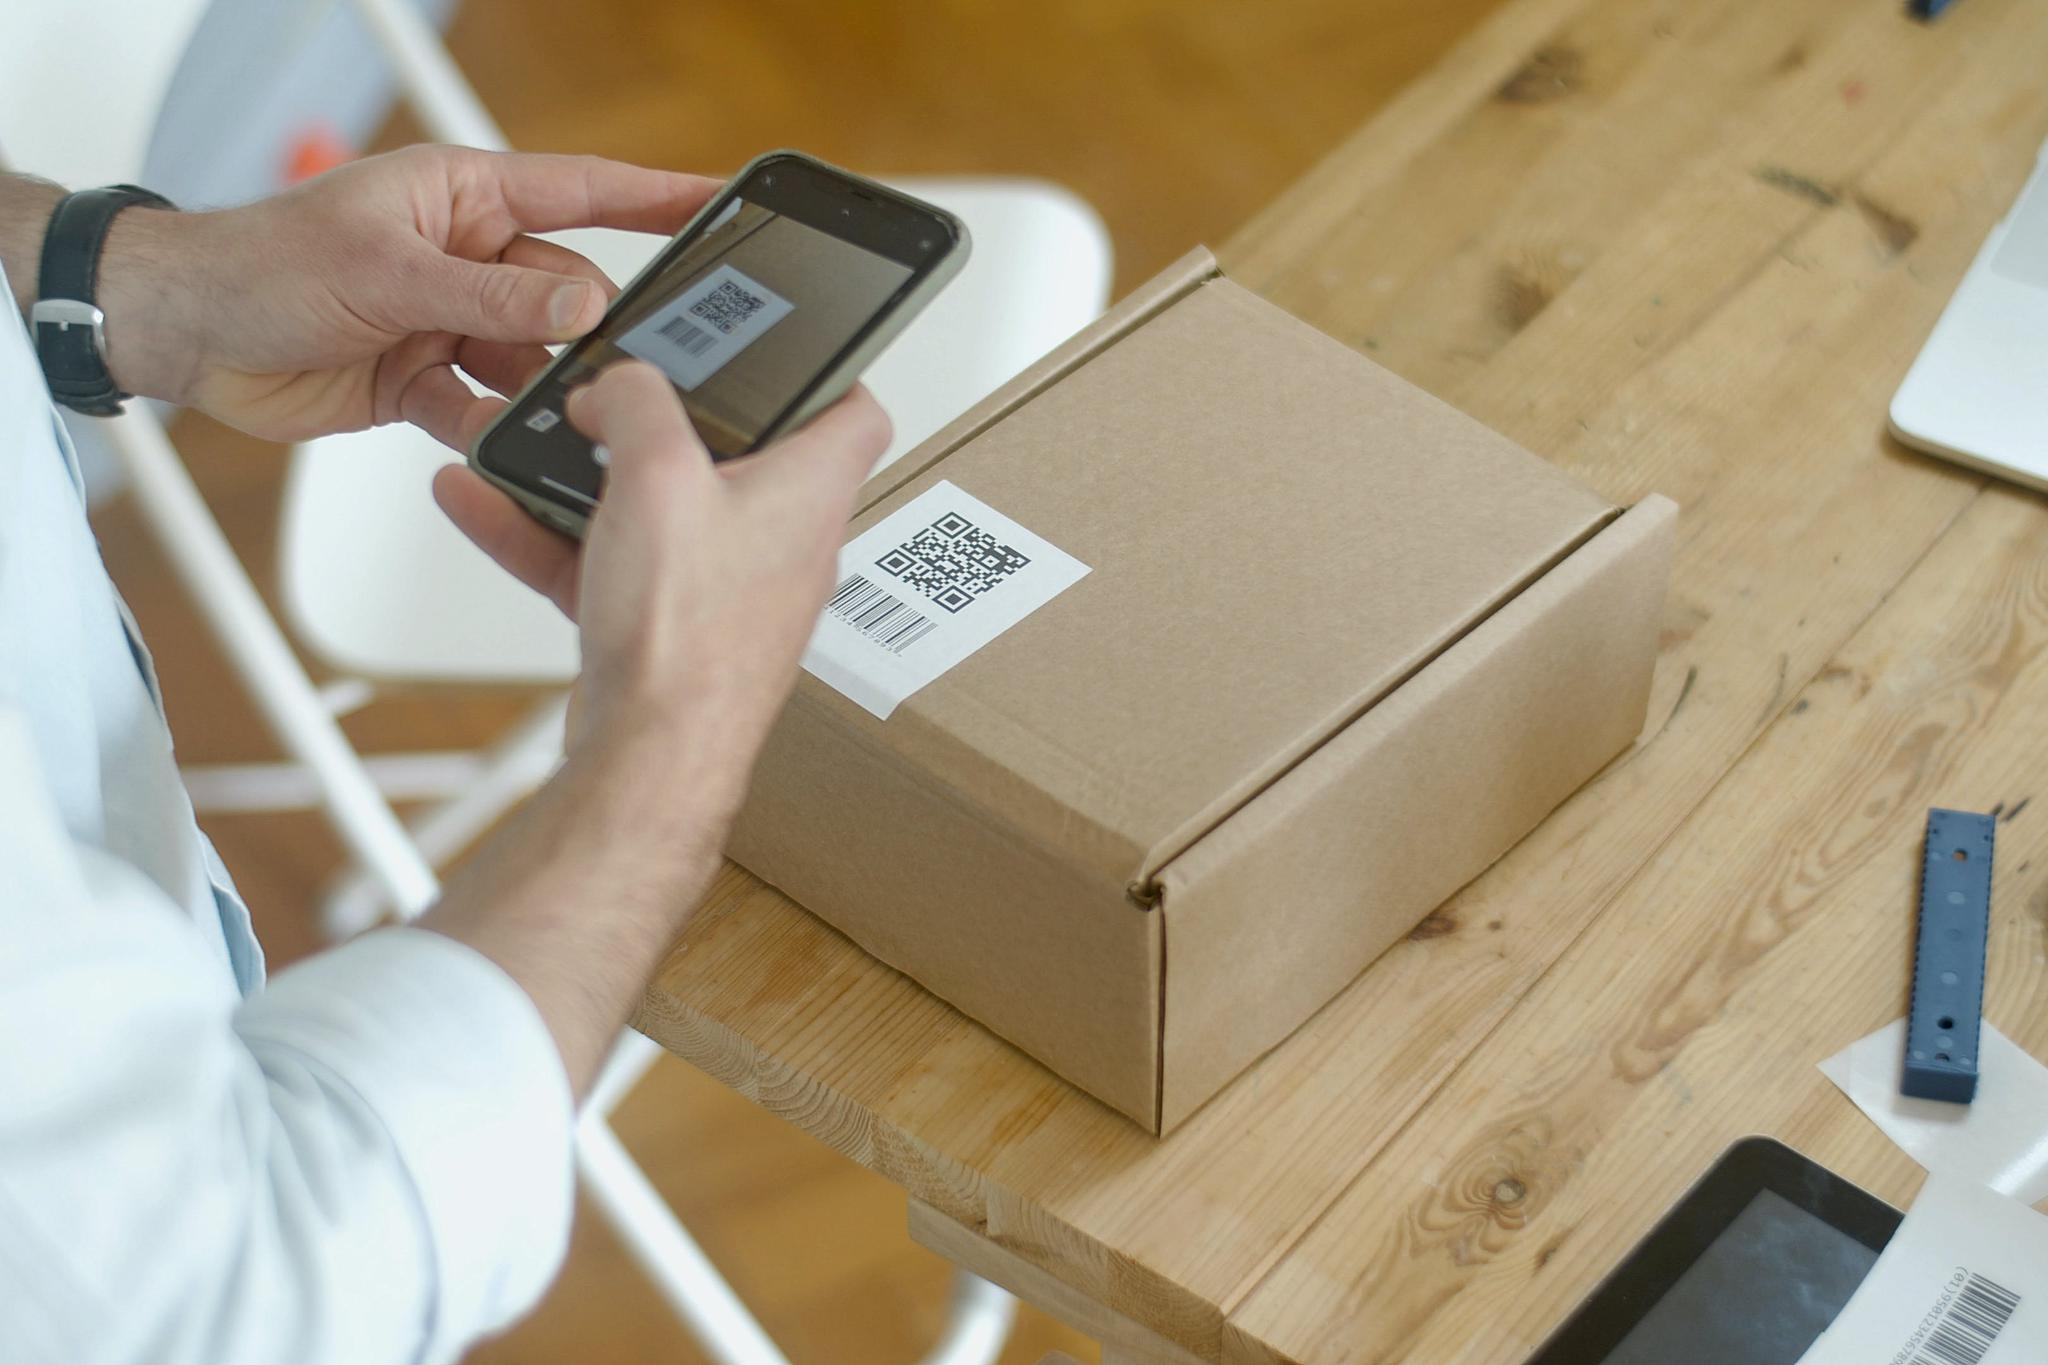Finder pattern: (872, 545, 921, 580), (929, 509, 978, 542), (930, 583, 973, 615), (716, 315, 742, 338), (690, 299, 713, 318), (719, 277, 742, 296)
